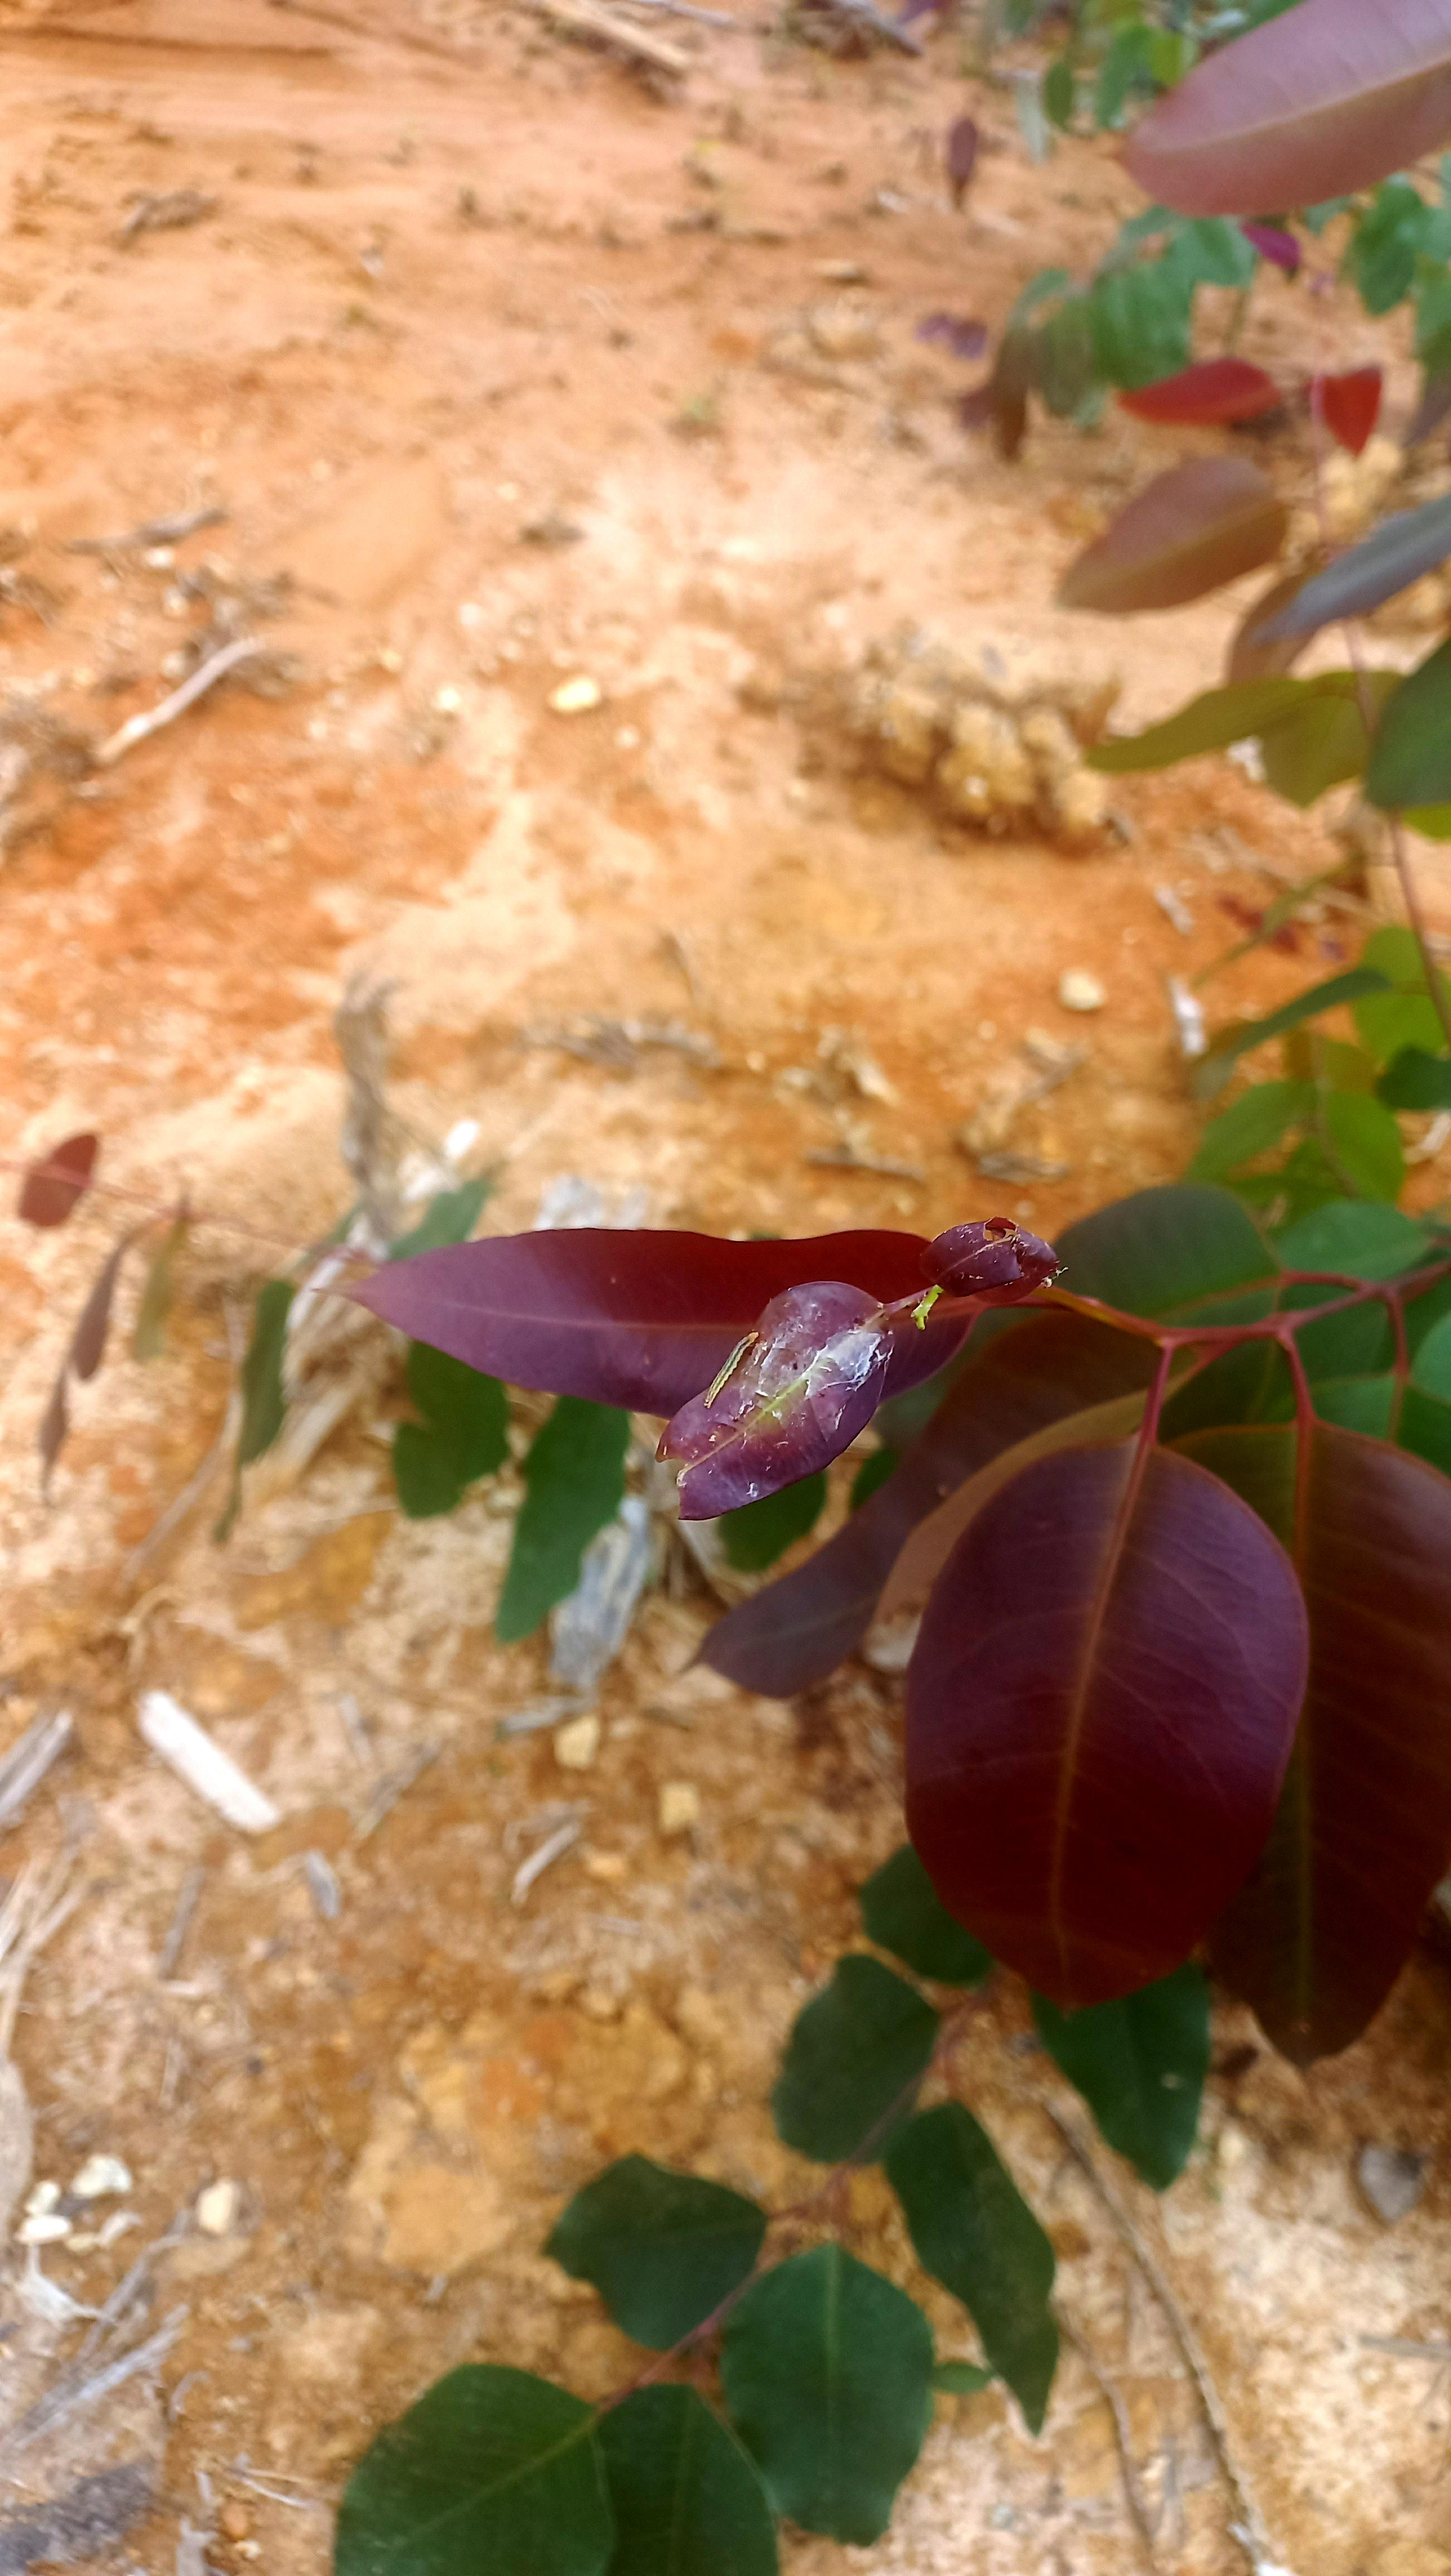Leaf Roller - Insect: (681, 1325, 770, 1421)
Leaf Roller - Leaf: (653, 1283, 895, 1523), (924, 1221, 1055, 1306)
